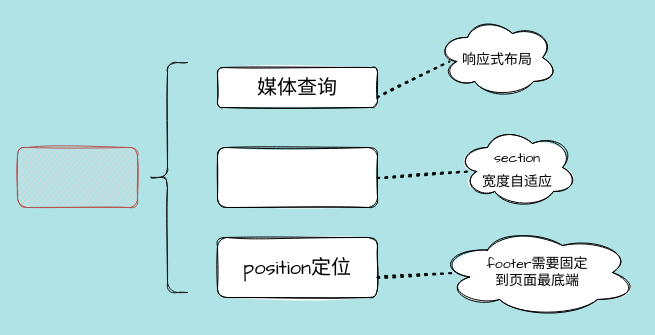
This 655x335 diagram has some shape labels left out. The centre of each missing label's shape, as x and y in pixels:
"flex布局" belongs at point (297, 177).
"考察知识点" belongs at point (77, 177).
